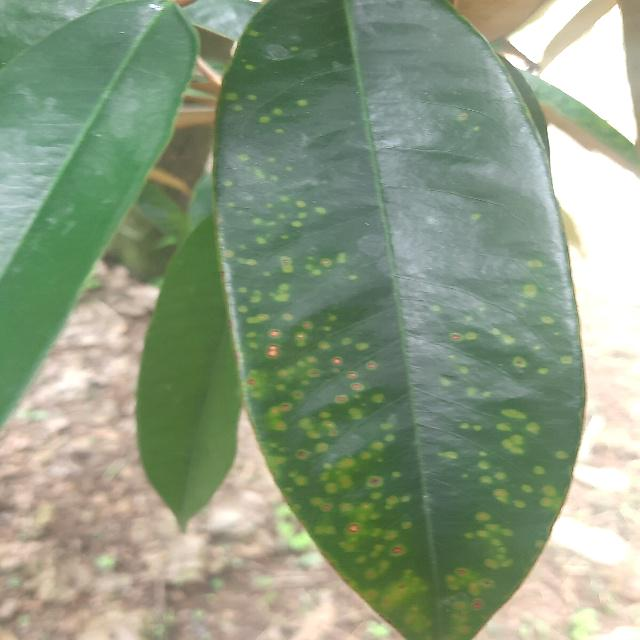Leaf Spot: (208, 0, 591, 639)
